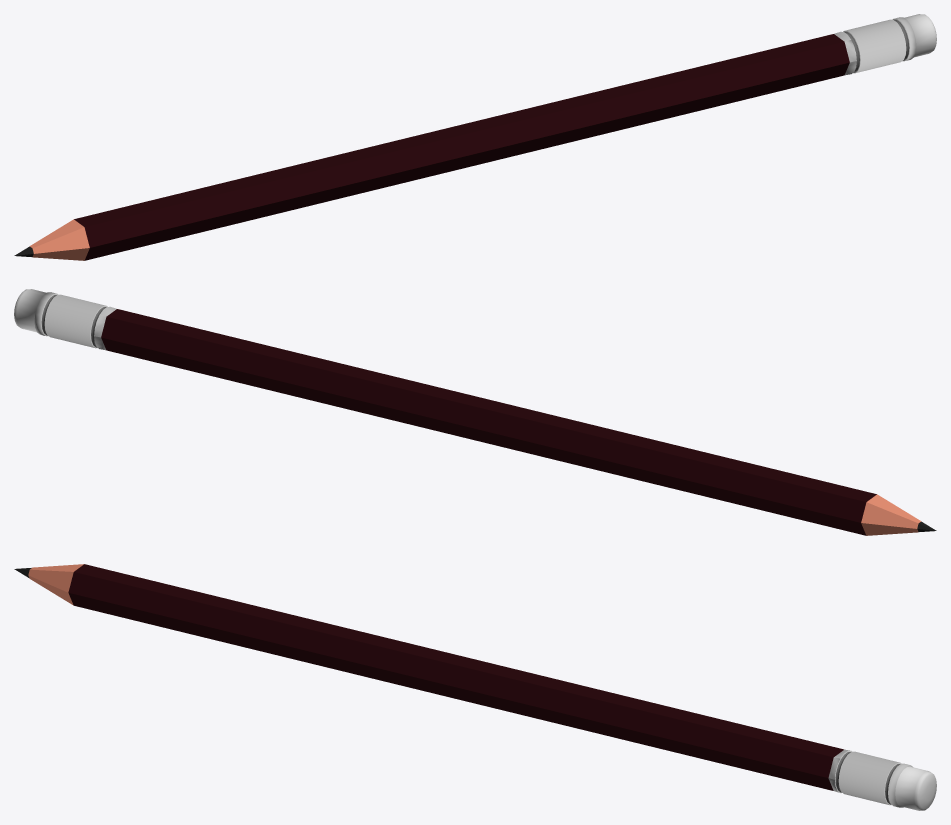
The model's file is pencil.fbx.
3 views of the same model, one above another, from view 1: azimuth 30°, elevation 25°; view 2: azimuth 150°, elevation 25°; view 3: azimuth 330°, elevation 25° (orthographic).
Visible parts, largest first — view 1: Cylinder; view 2: Cylinder; view 3: Cylinder.
Boxes of the visible parts, <box> form: Cylinder: <box>14,14,936,260</box>; Cylinder: <box>14,289,936,535</box>; Cylinder: <box>14,564,936,810</box>.
Bounding box in the file's own units: 600 × 24.56 × 24.94.
